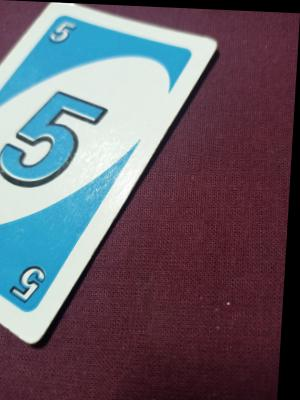blue: (0, 23, 125, 253)
num_5: (4, 261, 52, 306), (45, 16, 82, 47)
